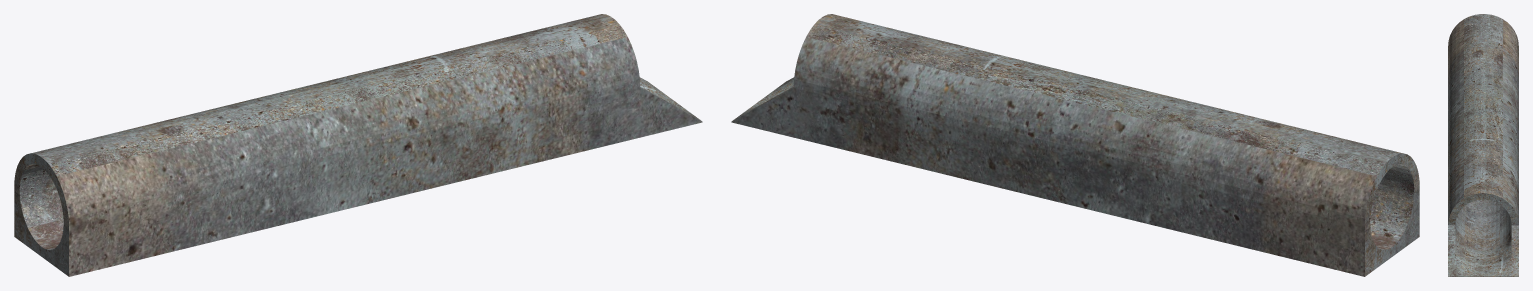
File: tunnel.dae
3 views of the same model, side by side, from view 1: azimuth 30°, elevation 25°; view 2: azimuth 150°, elevation 25°; view 3: azimuth 270°, elevation 25° (orthographic). The views are drawn at different scales.
Visible parts, largest first — view 1: Tunnel; view 2: Tunnel; view 3: Tunnel.
Part boxes in pixels (x1,y1,x2,y2): Tunnel: (14, 14, 702, 276); Tunnel: (731, 14, 1419, 276); Tunnel: (1448, 14, 1518, 276).
Size of the model in its own units: 10.14 by 1.52 by 1.52.
